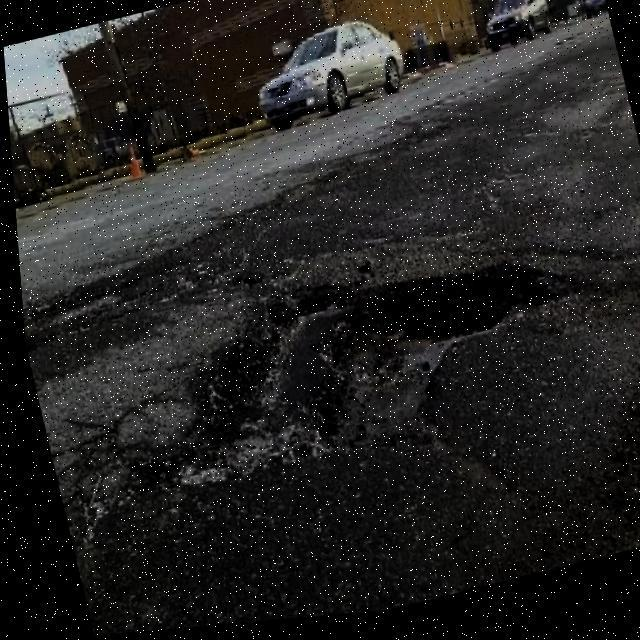pothole: (95, 237, 582, 508)
